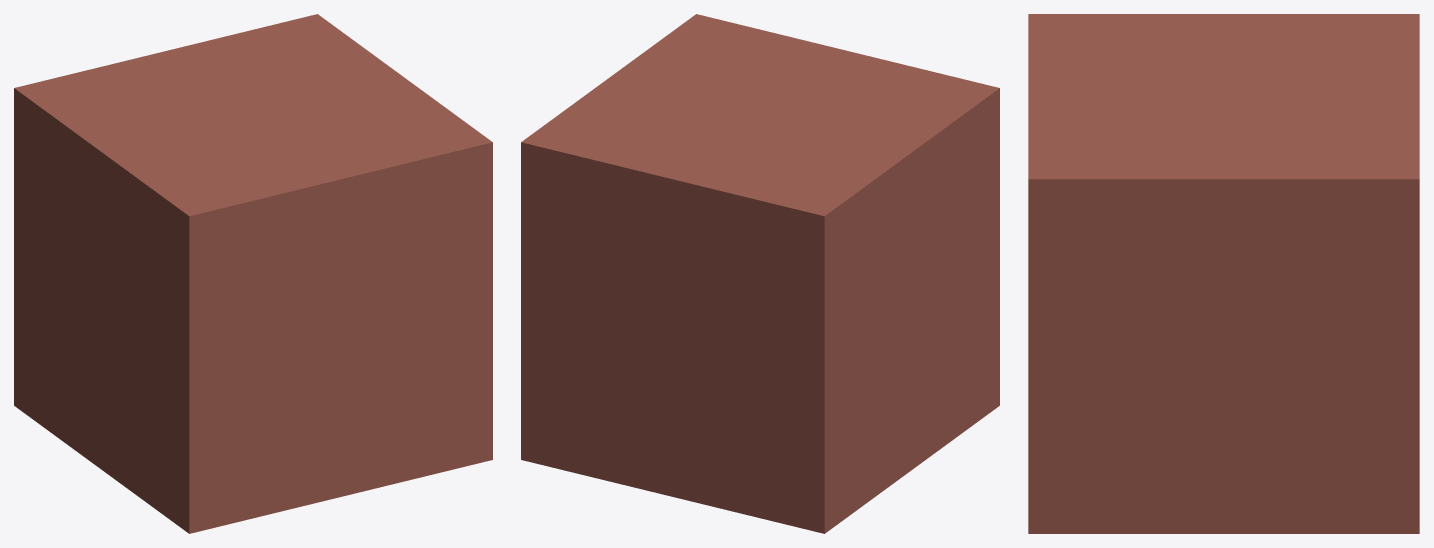
File: Hazard_Full.glb
The picture shows the model from 3 angles, left to right: view 1: azimuth 30°, elevation 25°; view 2: azimuth 150°, elevation 25°; view 3: azimuth 270°, elevation 25°; orthographic projection. The views are drawn at different scales.
Parts seen in each view (by area): view 1: Hazard_Full_body; view 2: Hazard_Full_body; view 3: Hazard_Full_body.
Part boxes in pixels (box(x1,y1,x2,y2)): Hazard_Full_body: box(14, 14, 492, 533); Hazard_Full_body: box(521, 14, 999, 533); Hazard_Full_body: box(1028, 14, 1419, 533).
Size of the model in its own units: 1 by 1 by 1.
